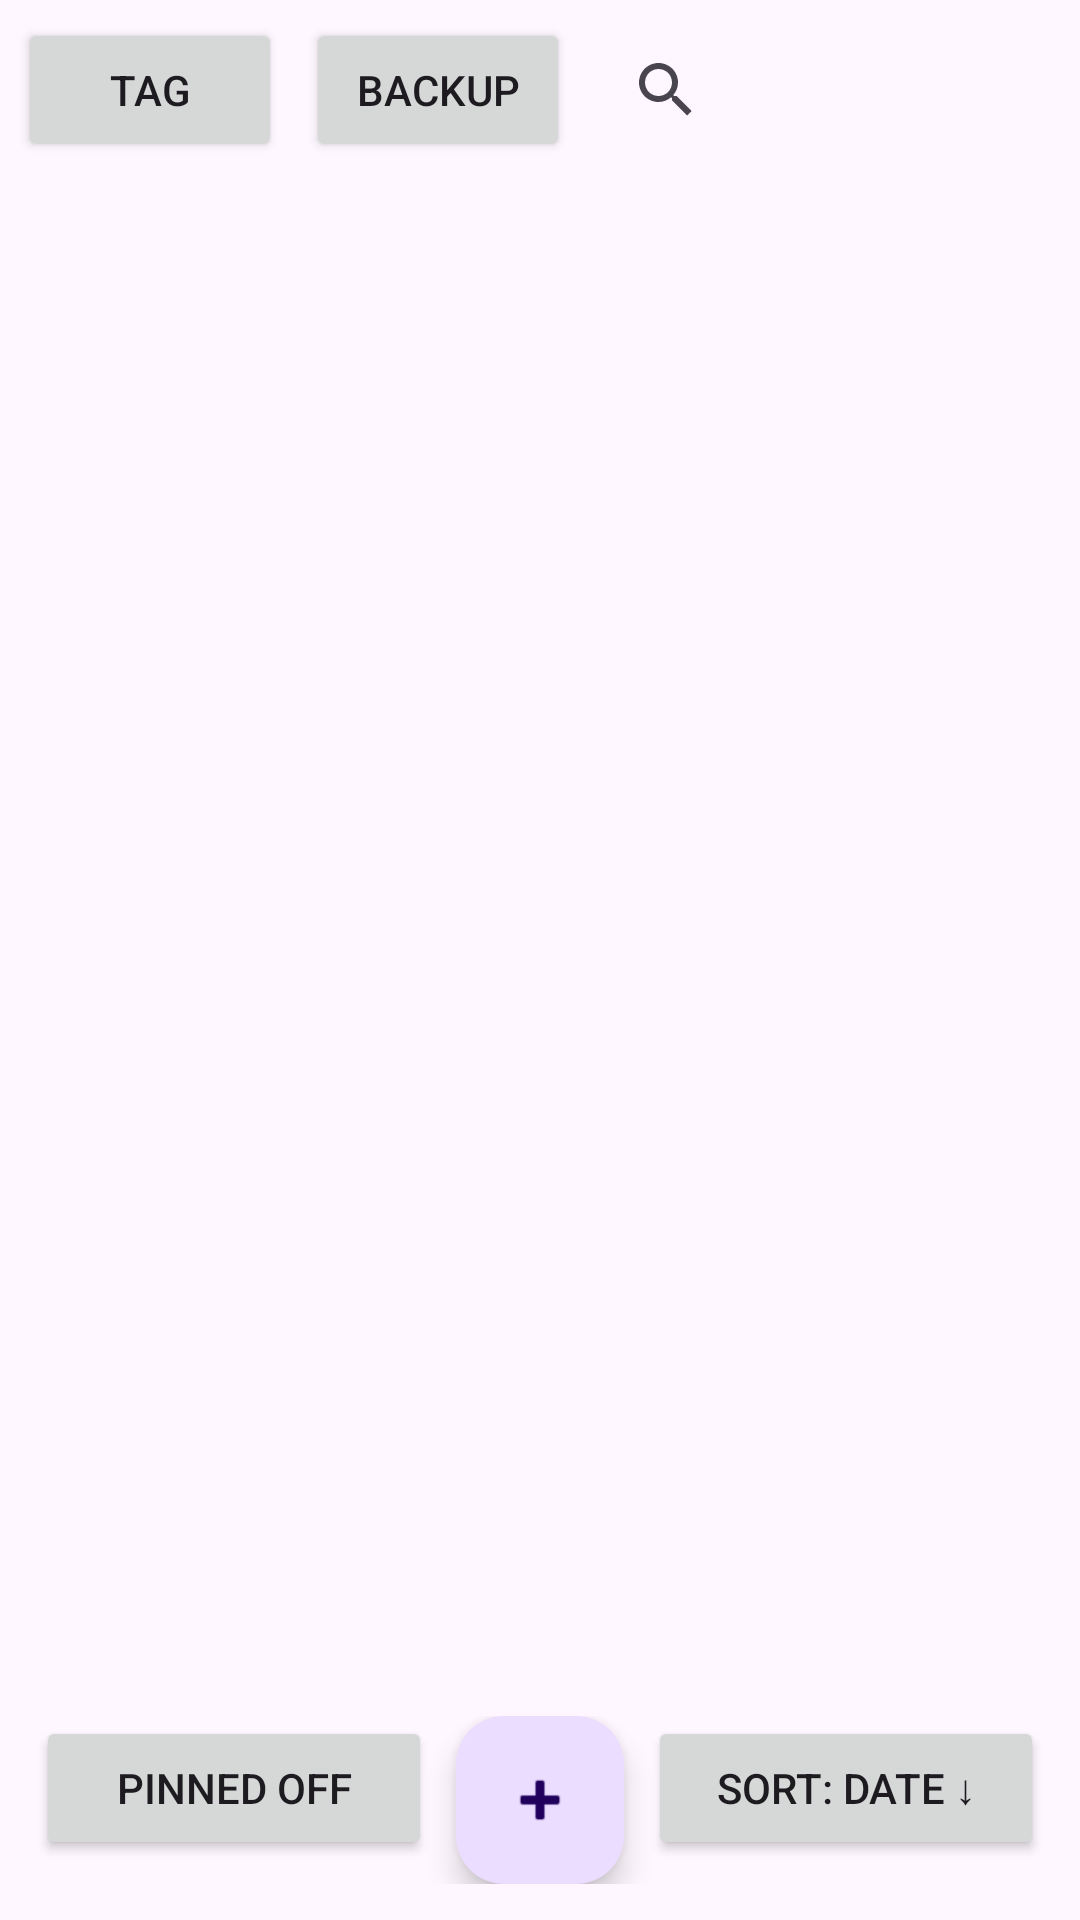

Icons on this 1080px×1920px Android screen, each with the point to tap as point (x, y):
Add: point (540, 1800)
